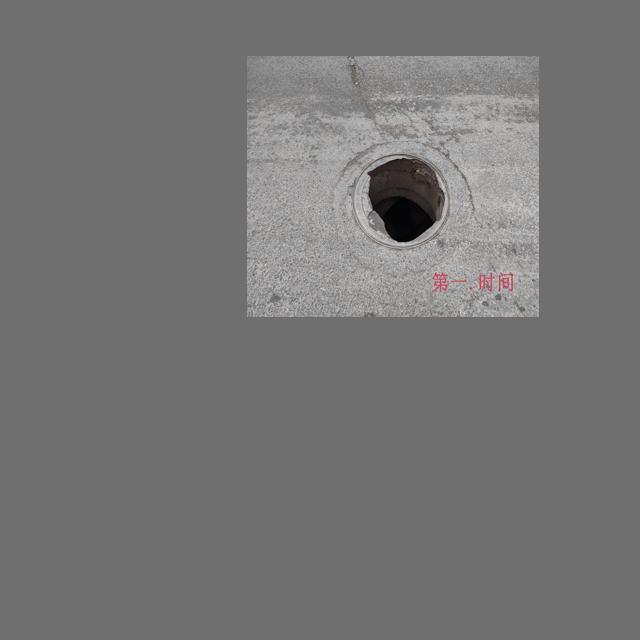broke: (332, 138, 478, 273)
